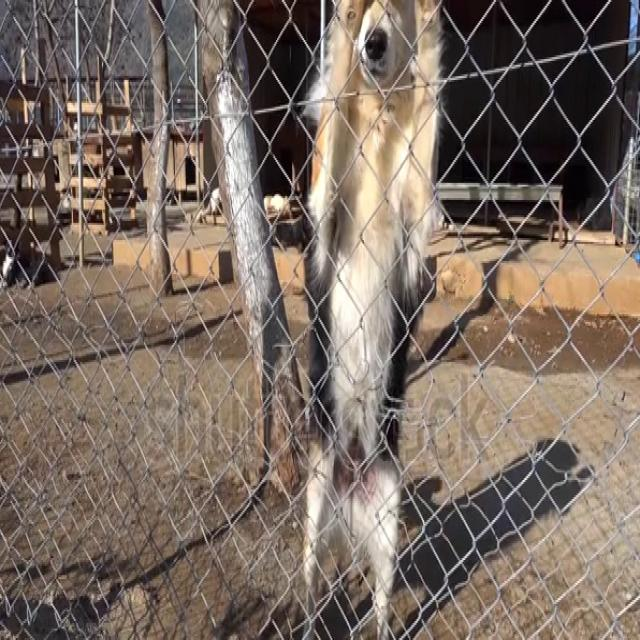injured-animals: (293, 0, 448, 638)
